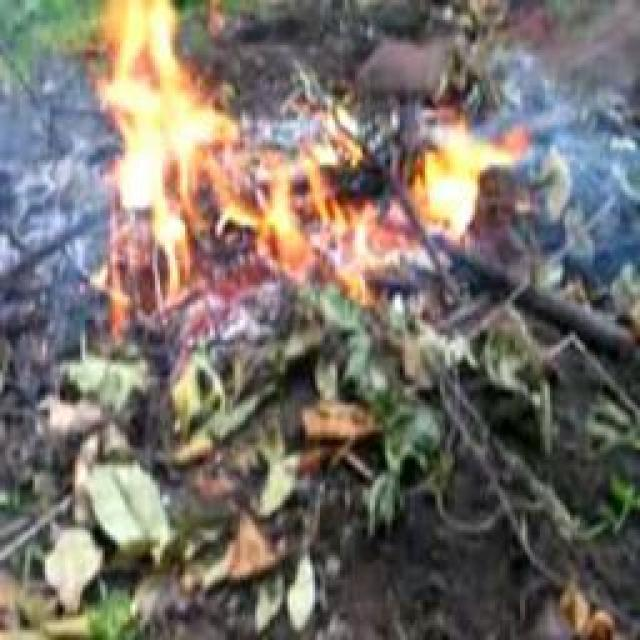Fire: (97, 8, 240, 310), (238, 108, 476, 273)
